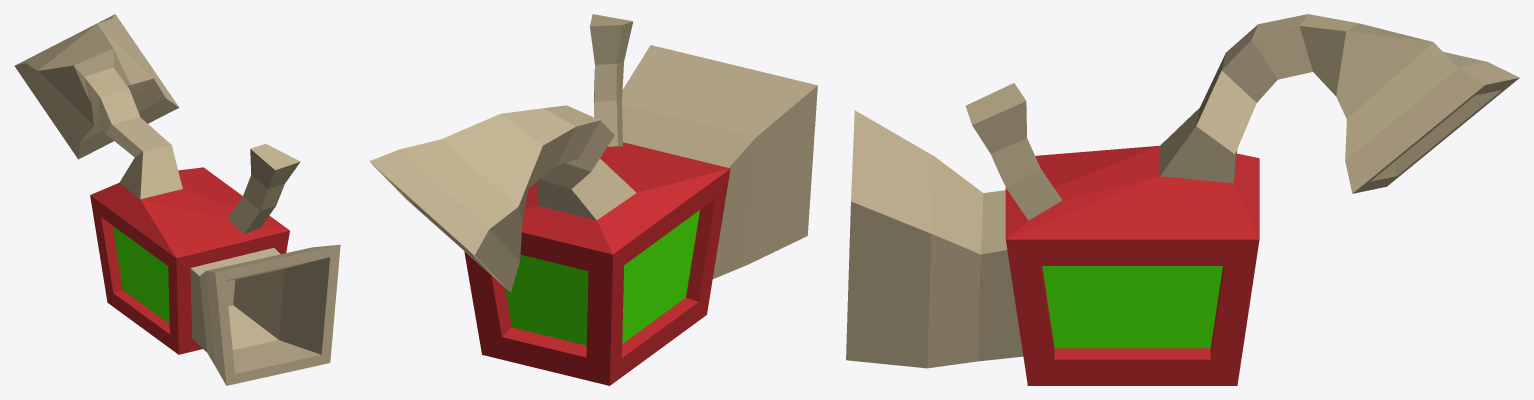
The model's file is machine.fbx.
The picture shows the model from 3 angles, left to right: view 1: azimuth 30°, elevation 25°; view 2: azimuth 150°, elevation 25°; view 3: azimuth 270°, elevation 25°; orthographic projection. The views are drawn at different scales.
Parts seen in each view (by area): view 1: Cube; view 2: Cube; view 3: Cube.
Boxes of the visible parts, bbox=[...] form: Cube: bbox=[14, 14, 340, 385]; Cube: bbox=[369, 14, 817, 385]; Cube: bbox=[846, 14, 1519, 385].
Bounding box in the file's own units: 811 × 1257 × 2412.
1 material, 1 textured.
